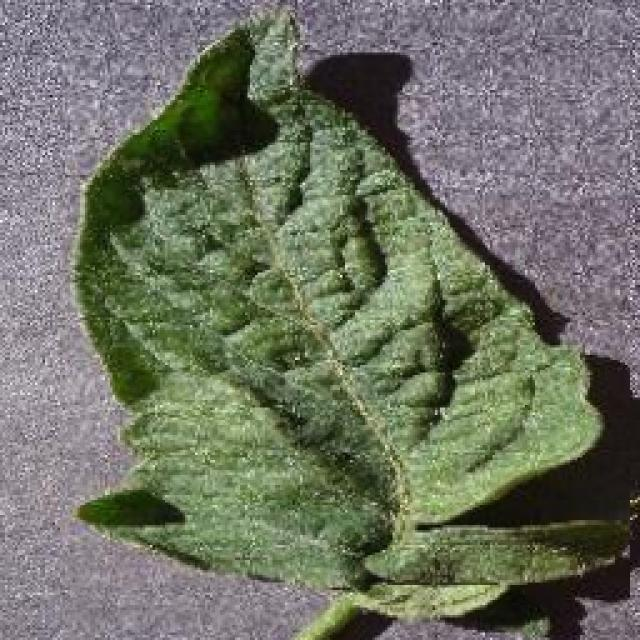Healthy: (60, 0, 630, 640)
